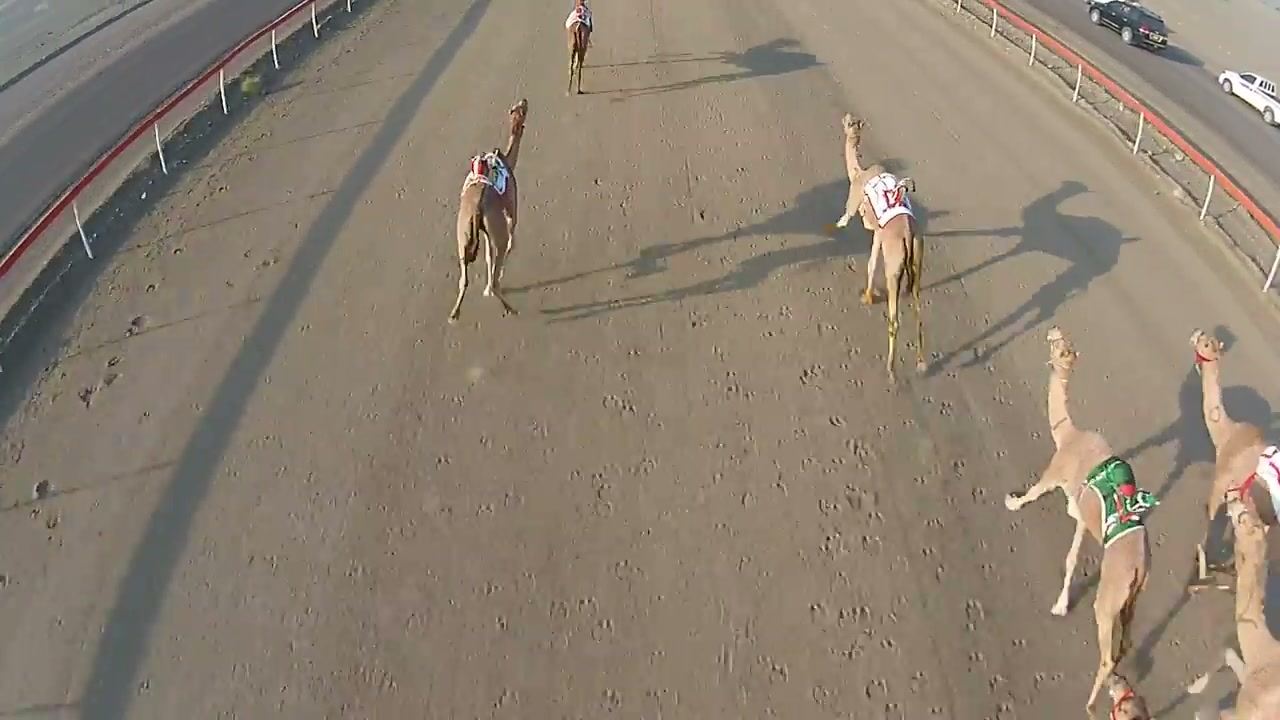animal_foot_print: (766, 262, 1062, 719), (322, 318, 544, 715), (548, 168, 699, 717)
